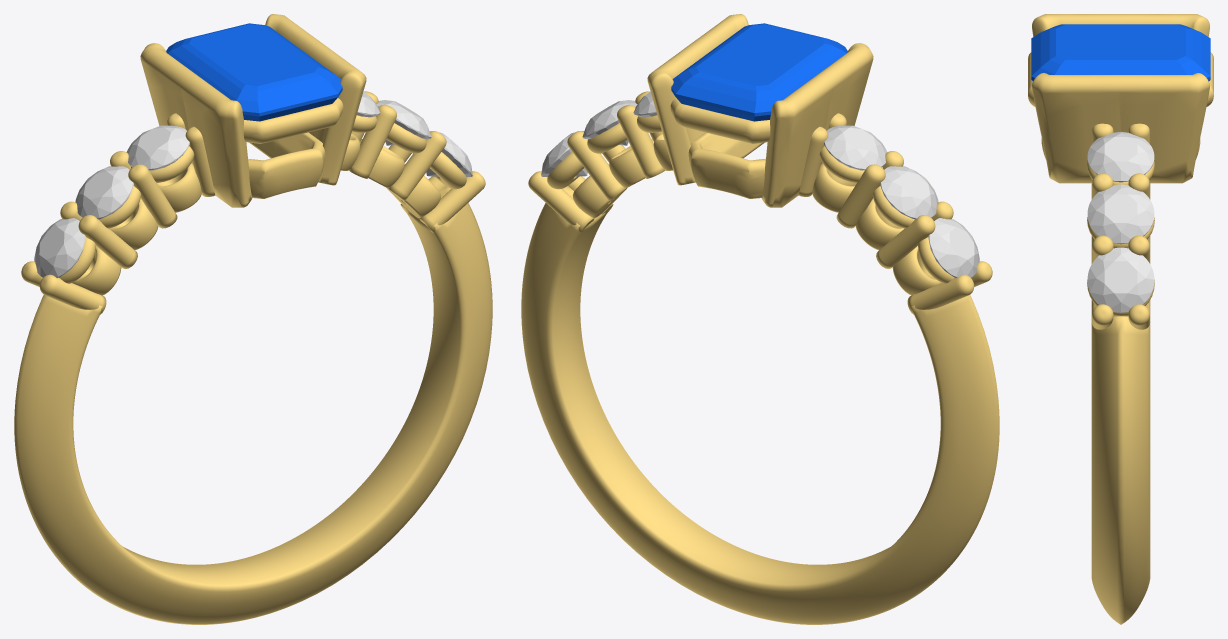
Rendered from bluesapphire-emerald-yellowgold-halfmoonbezel-knifeedge-7stone.glb.
3 renders of one model, left to right at view 1: azimuth 30°, elevation 25°; view 2: azimuth 150°, elevation 25°; view 3: azimuth 270°, elevation 25°, orthographic.
Visible parts, largest first — view 1: metal.003, stone.002, side.012, side.013, side.014, side.016, side.017; view 2: metal.003, stone.002, side.012, side.013, side.014, side.016, side.017; view 3: metal.003, stone.002, side.017, side.016, side.015.
Boxes of the visible parts, <box> form: metal.003: <box>14,14,492,624</box>; stone.002: <box>166,23,342,121</box>; side.012: <box>34,218,85,277</box>; side.013: <box>75,166,133,219</box>; side.014: <box>126,125,189,170</box>; side.016: <box>376,100,431,145</box>; side.017: <box>426,131,472,176</box>; metal.003: <box>521,14,999,624</box>; stone.002: <box>671,23,847,121</box>; side.012: <box>928,218,979,277</box>; side.013: <box>880,166,938,219</box>; side.014: <box>824,125,887,170</box>; side.016: <box>582,100,637,145</box>; side.017: <box>541,131,587,176</box>; metal.003: <box>1028,14,1213,624</box>; stone.002: <box>1031,24,1210,81</box>; side.017: <box>1087,247,1154,312</box>; side.016: <box>1087,184,1154,244</box>; side.015: <box>1087,132,1154,182</box>.
Size of the model in its own units: 20.4 by 22.94 by 6.94.
